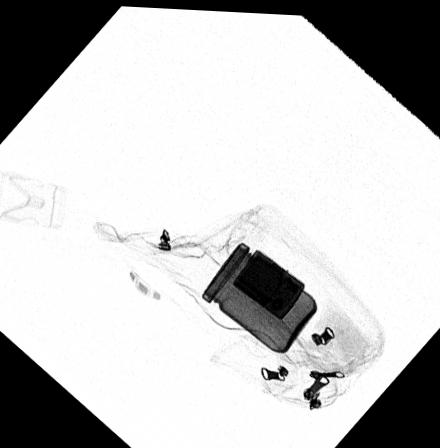Lighter: (231, 247, 306, 319)
